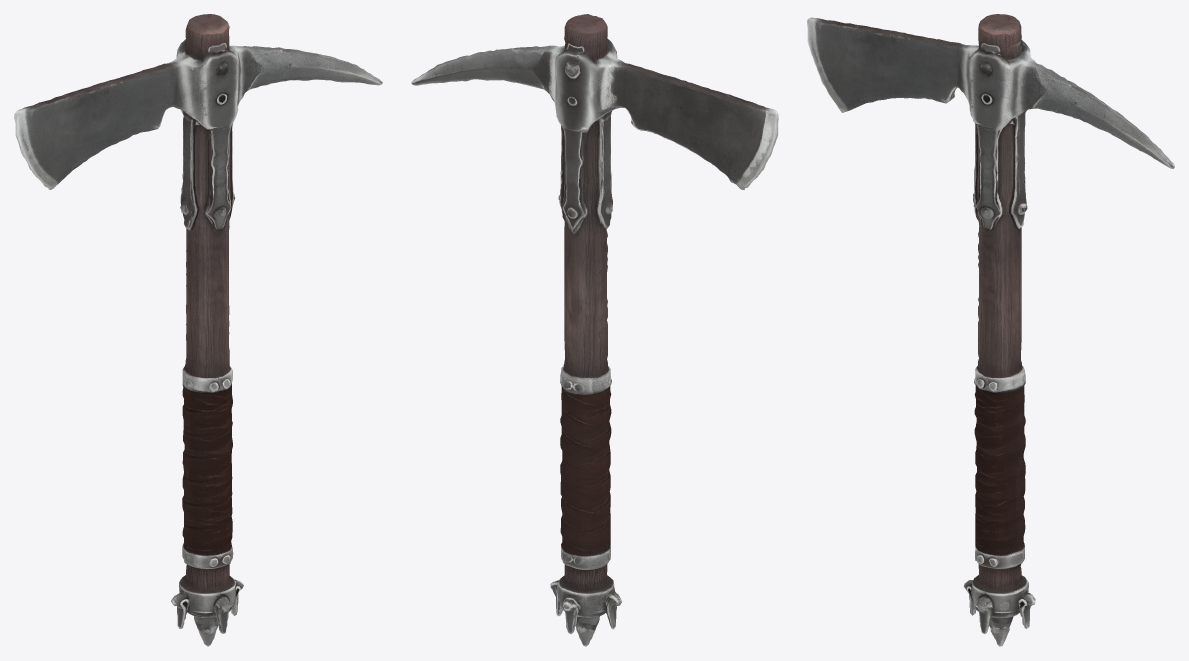
Rendered from Pickaxe Basic.glb.
The picture shows the model from 3 angles, left to right: view 1: azimuth 30°, elevation 25°; view 2: azimuth 150°, elevation 25°; view 3: azimuth 330°, elevation 25°; orthographic projection.
Bounding box in the file's own units: 1.17 × 1.91 × 0.227.
1 material, 1 textured.
